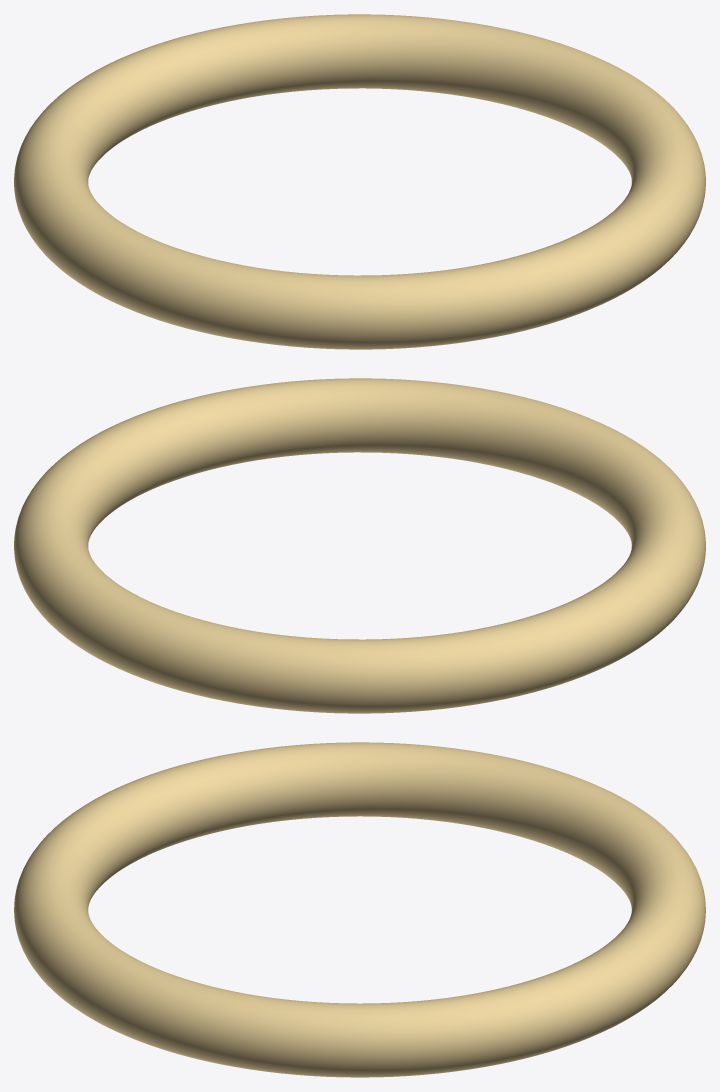
The model's file is ring.gltf.
3 views of the same model, one above another, from view 1: azimuth 30°, elevation 25°; view 2: azimuth 150°, elevation 25°; view 3: azimuth 270°, elevation 25° (orthographic).
Parts seen in each view (by area): view 1: Ring; view 2: Ring; view 3: Ring.
Boxes of the visible parts, <box> form: Ring: <box>14,14,705,349</box>; Ring: <box>14,378,705,713</box>; Ring: <box>14,742,705,1077</box>.
Size of the model in its own units: 2.24 by 0.24 by 2.24.
